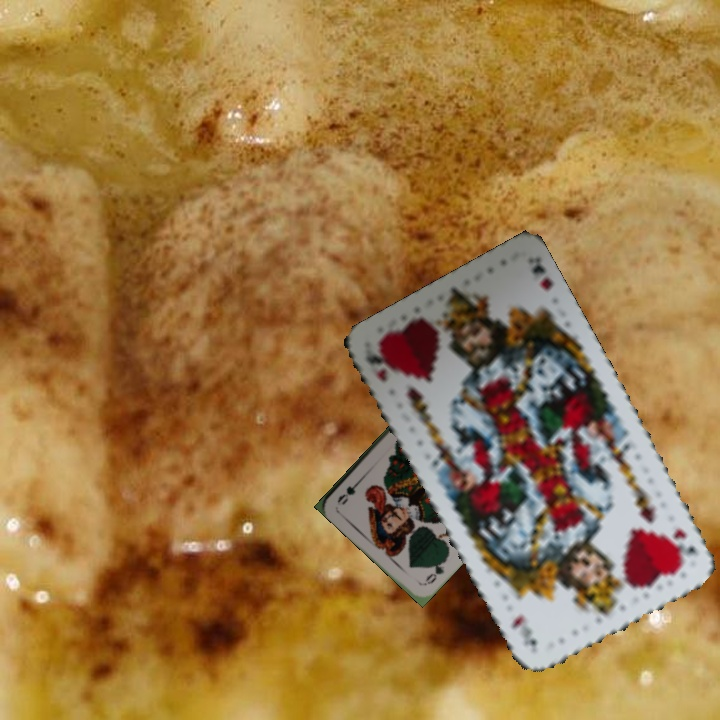GO: (420, 554, 450, 587)
HK: (668, 524, 699, 565), (361, 345, 393, 384)
